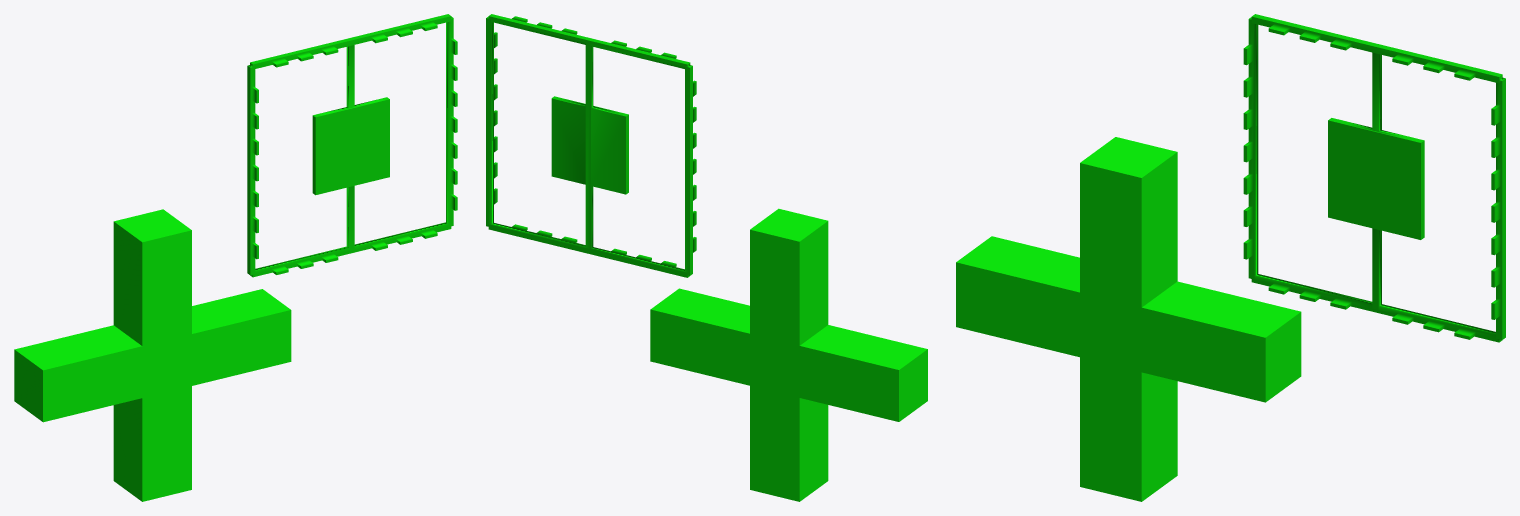
Rendered from SetBooster.fbx.
3 views of the same model, side by side, from view 1: azimuth 30°, elevation 25°; view 2: azimuth 150°, elevation 25°; view 3: azimuth 330°, elevation 25° (orthographic). The views are drawn at different scales.
Visible parts, largest first — view 1: Cube.001, Cube.022; view 2: Cube.001, Cube.022; view 3: Cube.001, Cube.022.
Part boxes in pixels (x1,y1,x2,y2): Cube.001: [14, 209, 291, 501]; Cube.022: [247, 14, 457, 277]; Cube.001: [650, 208, 927, 501]; Cube.022: [486, 14, 696, 277]; Cube.001: [956, 137, 1301, 501]; Cube.022: [1243, 14, 1505, 342].
Bounding box in the file's own units: 171 × 153 × 20.
